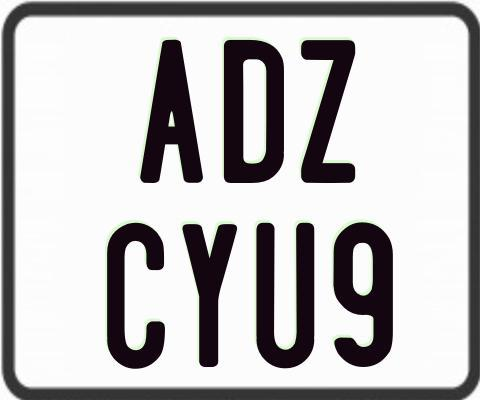9: (332, 221, 398, 372)
A: (140, 39, 208, 183)
C: (107, 222, 171, 368)
D: (223, 38, 288, 181)
U: (255, 223, 316, 368)
Y: (181, 221, 236, 365)
Z: (298, 40, 358, 186)
